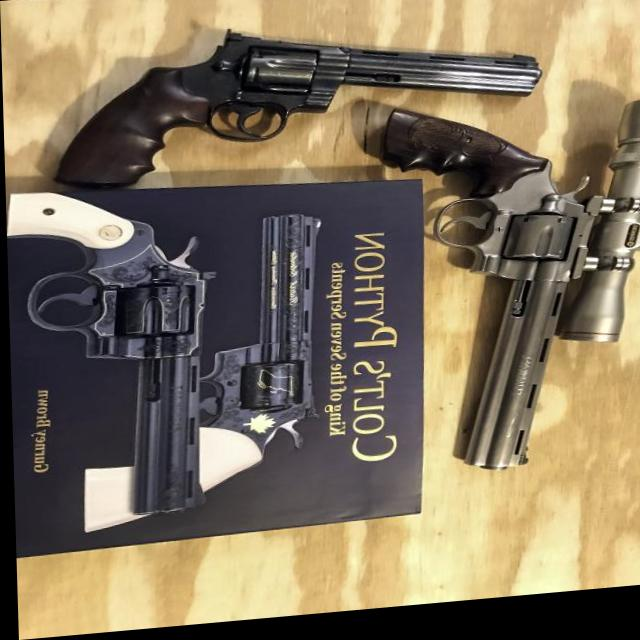handgun: (1, 11, 609, 529)
